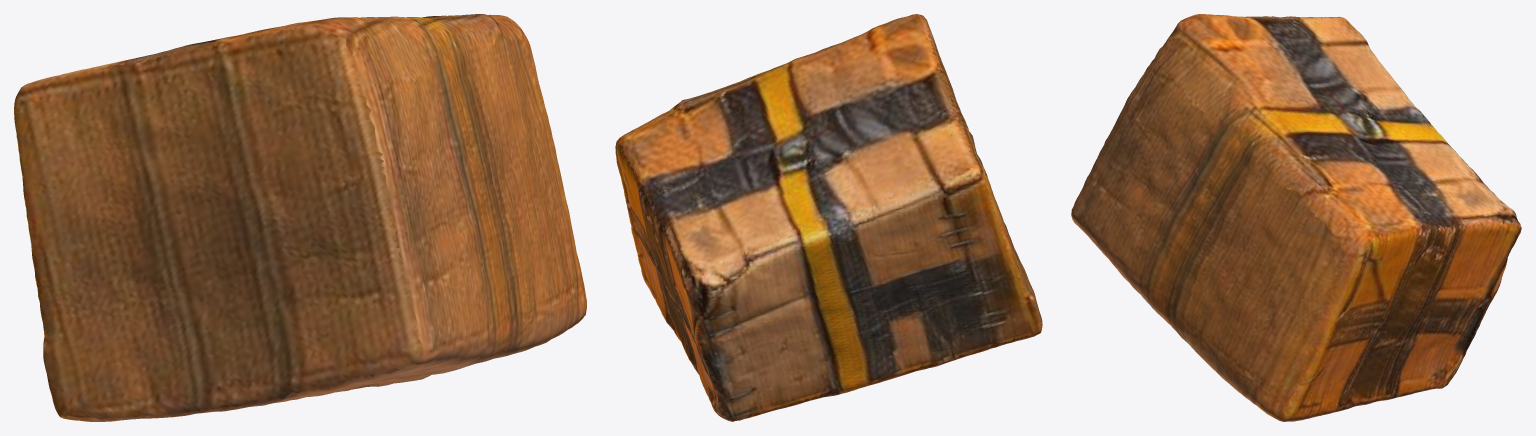
The picture shows the model from 3 angles, left to right: view 1: azimuth 30°, elevation 25°; view 2: azimuth 150°, elevation 25°; view 3: azimuth 270°, elevation 25°; orthographic projection. The views are drawn at different scales.
Parts seen in each view (by area): view 1: world; view 2: world; view 3: world.
Boxes of the visible parts, x1,y1,x2,y2 form: world: (14, 14, 586, 421); world: (615, 14, 1042, 421); world: (1071, 14, 1521, 421).
Size of the model in its own units: 0.952 by 0.7808 by 0.9524.
1 material, 1 textured.
